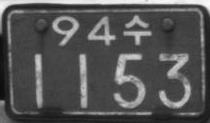1: (68, 53, 101, 108), (24, 53, 54, 107)
3: (158, 51, 191, 110)
4: (87, 16, 116, 46)
5: (112, 52, 146, 110)
9: (51, 14, 80, 46)
수: (123, 14, 152, 45)
